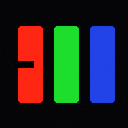3 line_h: (15, 61, 33, 67)
